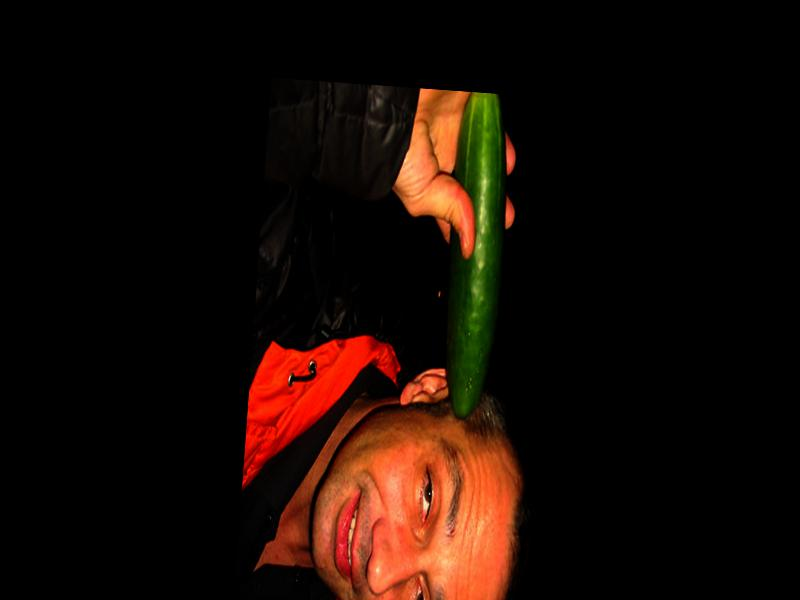Cucumber: (437, 93, 513, 423)
